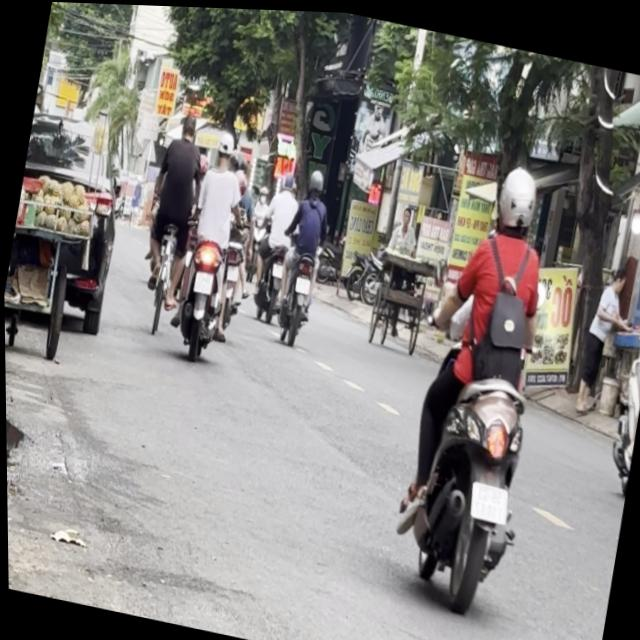helmet: (490, 157, 544, 236)
licenseplate: (378, 141, 582, 616), (164, 120, 259, 362), (599, 232, 640, 502)
motorcyclist: (212, 127, 239, 171)
nohelmet: (466, 476, 509, 521), (192, 267, 214, 293)
